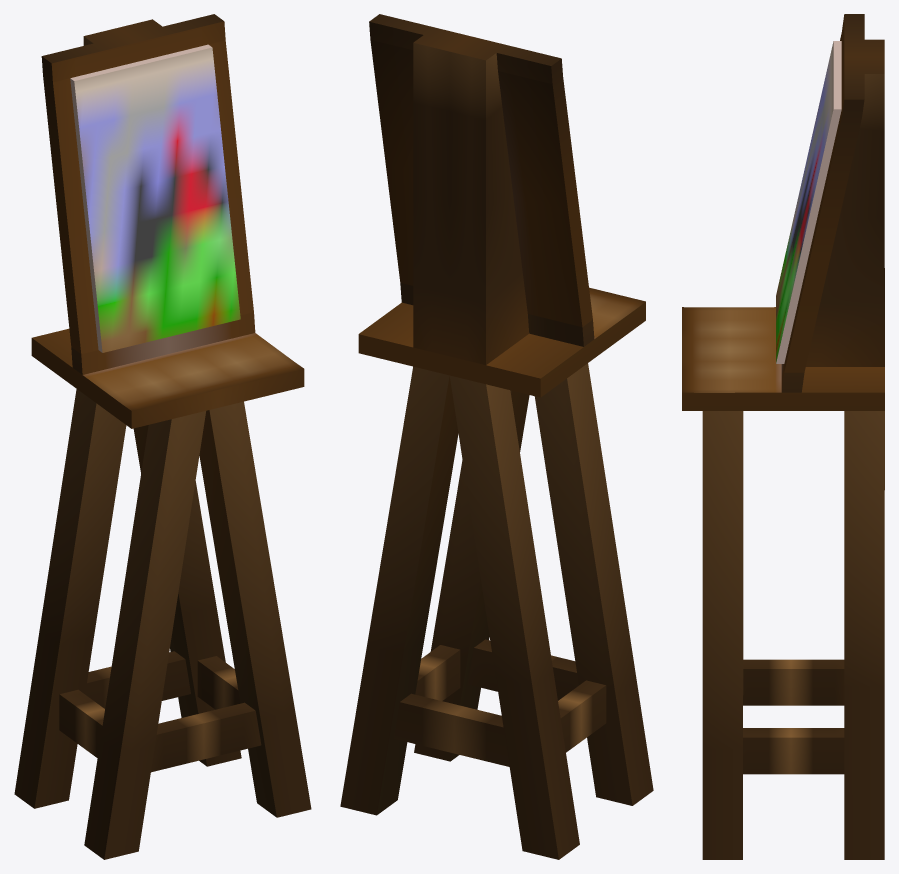
File: easel_837x05.obj
The picture shows the model from 3 angles, left to right: view 1: azimuth 30°, elevation 25°; view 2: azimuth 150°, elevation 25°; view 3: azimuth 270°, elevation 25°; orthographic projection. The views are drawn at different scales.
Visible parts, largest first — view 1: Easel_837x5; view 2: Easel_837x5; view 3: Easel_837x5.
Part boxes in pixels (<box>): Easel_837x5: <box>14,14,311,859</box>; Easel_837x5: <box>340,14,653,859</box>; Easel_837x5: <box>682,14,884,859</box>.
Bounding box in the file's own units: 1.2 × 4.1 × 1.
